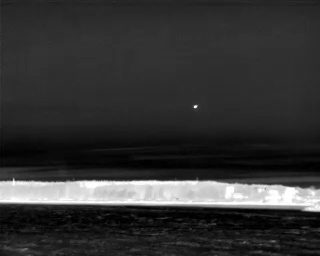HELICOPTER: (190, 102, 200, 114)
